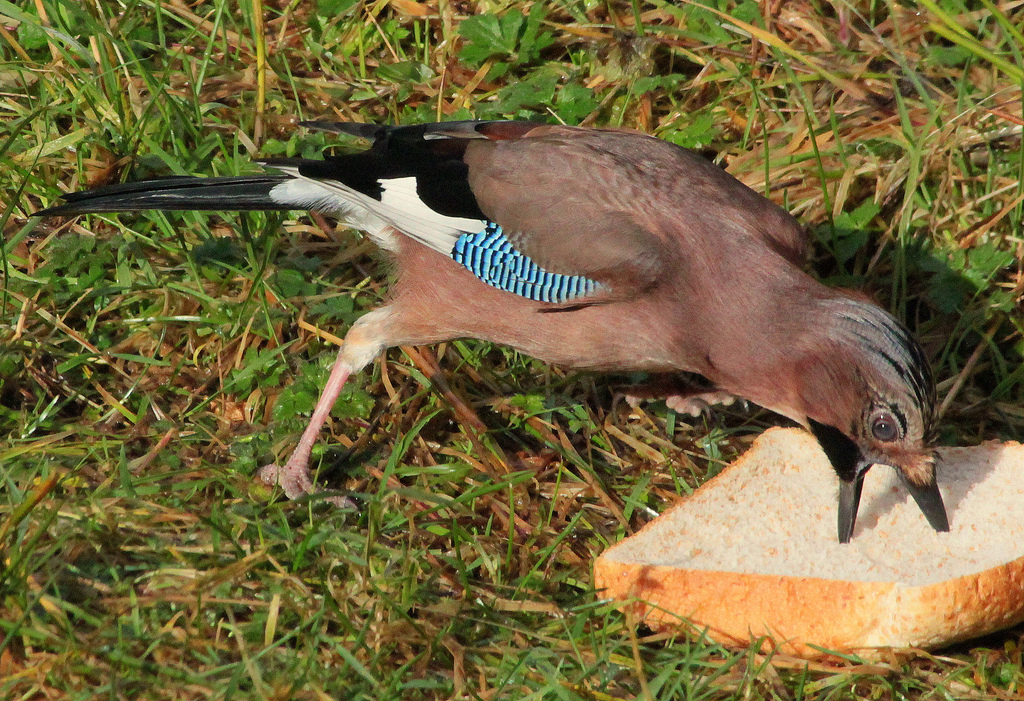slice of bread: (595, 425, 1024, 655)
